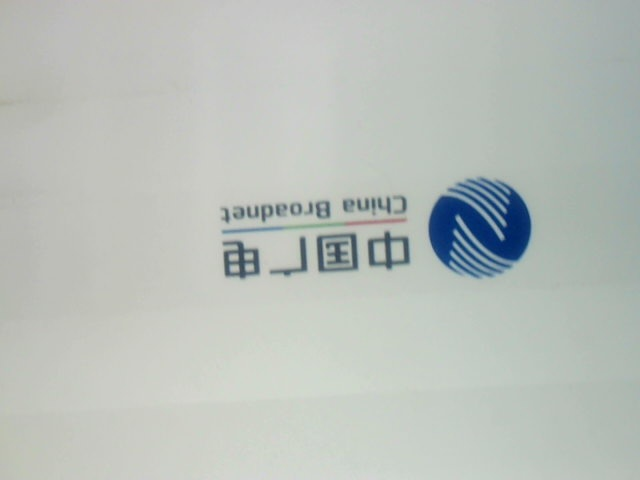AW_ChinaBroadNet: (216, 171, 550, 285)
